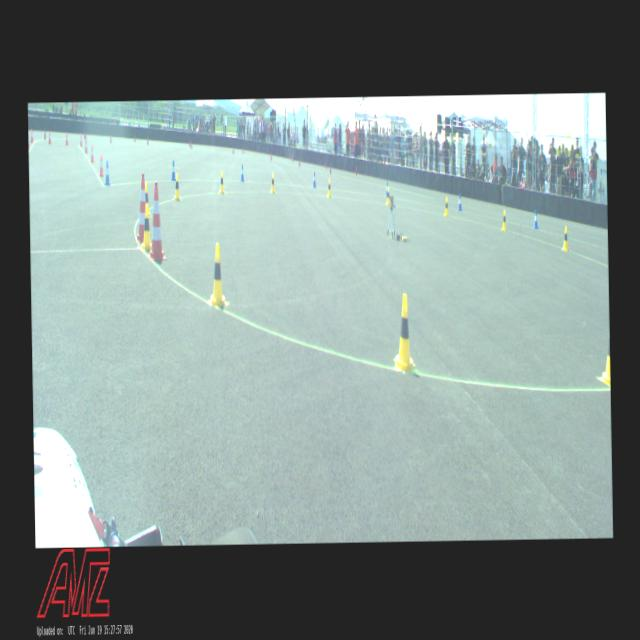blue_cone: (104, 160, 110, 183), (170, 160, 176, 180), (532, 210, 538, 228), (458, 193, 462, 210), (240, 164, 244, 181), (312, 171, 316, 187), (384, 181, 388, 197)
large_orange_cone: (148, 180, 166, 259), (136, 172, 146, 240)
orange_cone: (98, 154, 104, 176), (90, 144, 94, 162), (84, 138, 88, 152), (48, 131, 51, 143), (30, 128, 32, 142), (80, 134, 82, 146), (66, 132, 68, 144)
unknown_cone: (329, 163, 332, 174), (44, 128, 46, 139), (110, 133, 112, 143), (85, 132, 87, 142), (355, 165, 357, 175), (298, 157, 300, 167), (270, 152, 272, 160)
yellow_cone: (394, 294, 413, 369), (209, 243, 224, 306), (600, 317, 610, 384), (141, 205, 151, 248), (144, 182, 150, 215), (173, 173, 180, 200), (562, 226, 568, 250), (219, 170, 224, 192), (501, 209, 506, 230), (326, 178, 331, 196), (444, 196, 448, 216), (270, 172, 274, 192), (386, 187, 390, 204)
